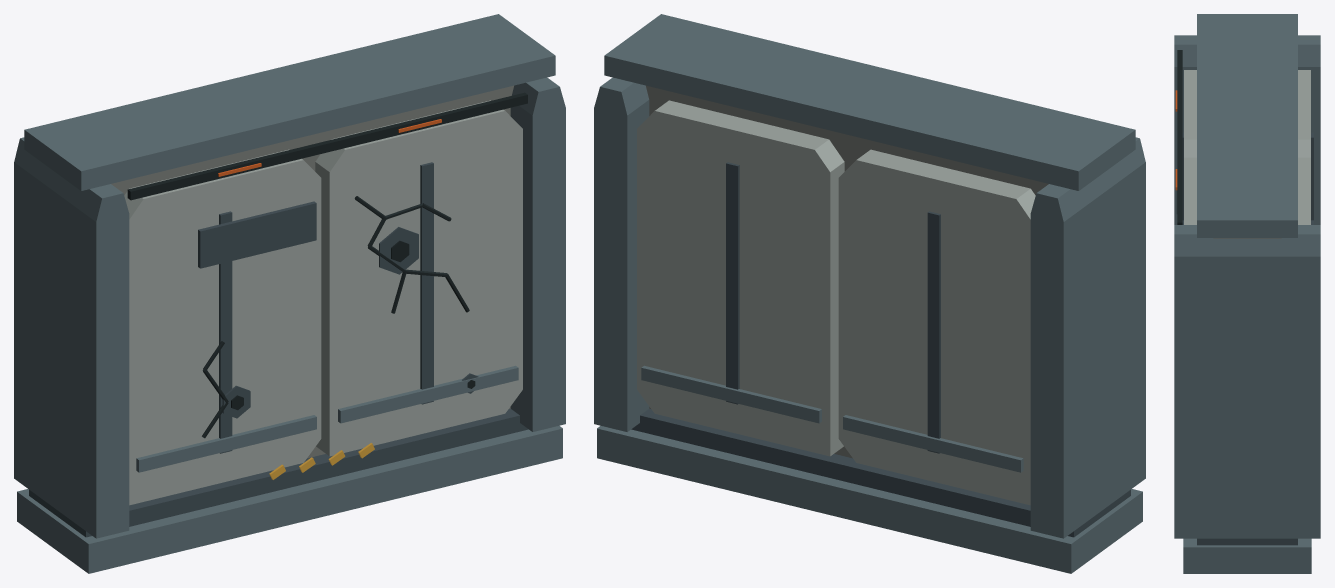
Rendered from wall_standard_d1.glb.
3 renders of one model, left to right at view 1: azimuth 30°, elevation 25°; view 2: azimuth 150°, elevation 25°; view 3: azimuth 270°, elevation 25°, orthographic. The views are drawn at different scales.
Parts seen in each view (by area): view 1: GAME_MESH_STATIC.001; view 2: GAME_MESH_STATIC.001; view 3: GAME_MESH_STATIC.001.
Part boxes in pixels (x1,y1,x2,y2): GAME_MESH_STATIC.001: [14, 14, 565, 573]; GAME_MESH_STATIC.001: [594, 14, 1145, 573]; GAME_MESH_STATIC.001: [1174, 14, 1320, 573].
Size of the model in its own units: 4 by 3.2 by 1.2.
